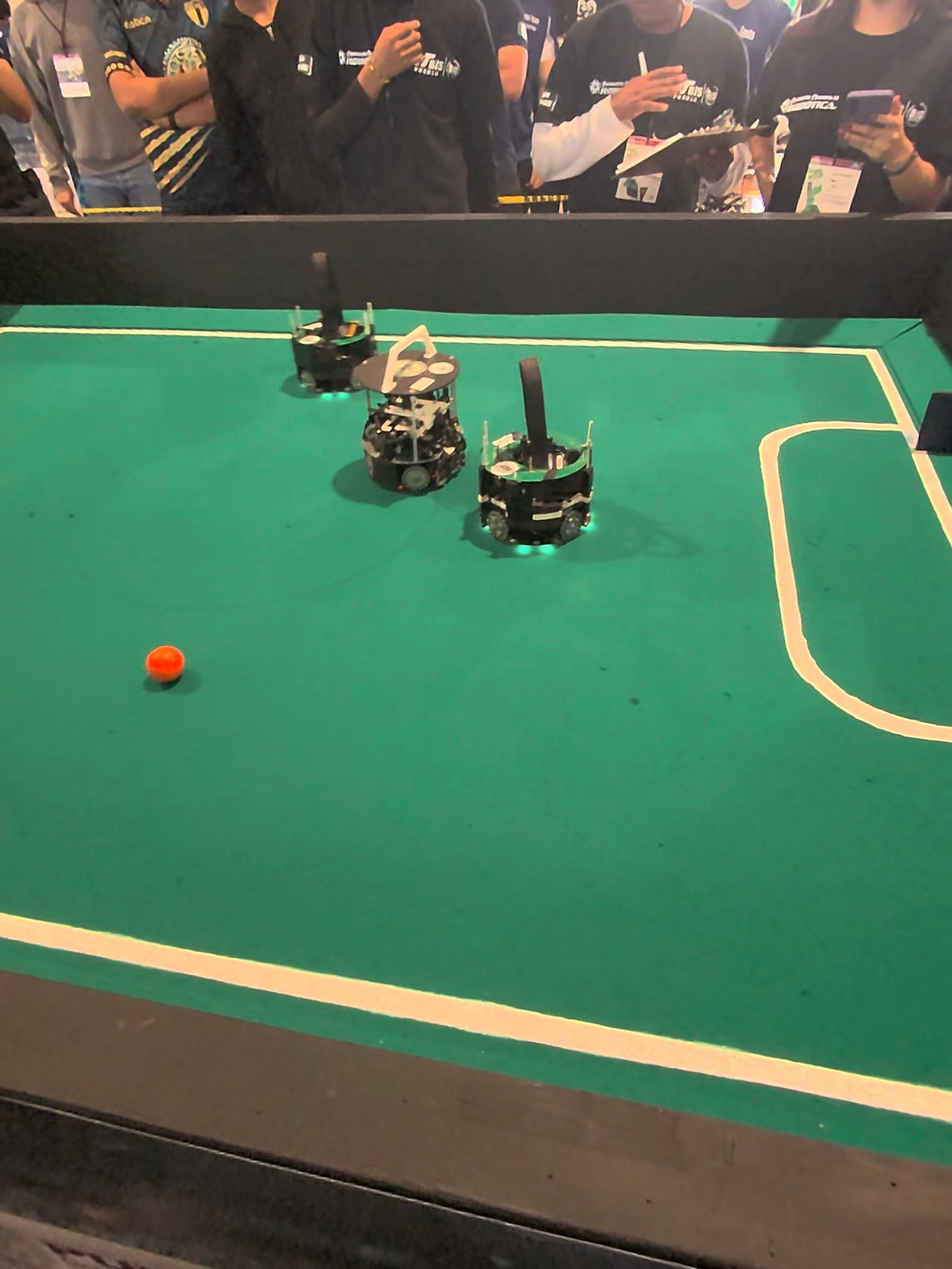Robot: (468, 348, 611, 564), (359, 329, 471, 496), (286, 252, 379, 410)
pelota: (145, 644, 186, 686)
